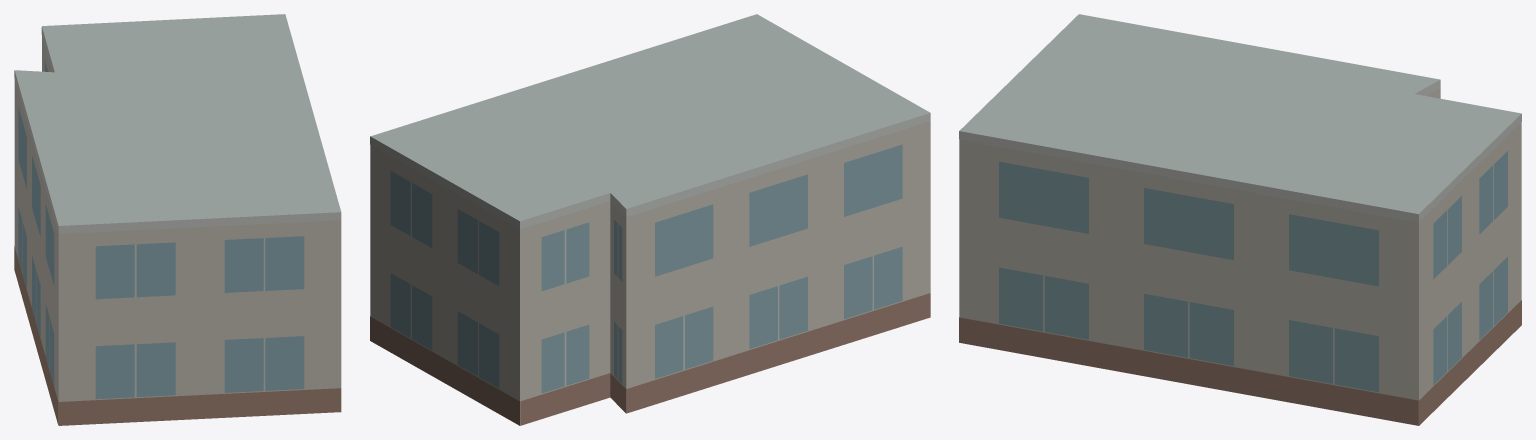
File: survey-upis-32708283.glb
3 views of the same model, side by side, from view 1: azimuth 30°, elevation 25°; view 2: azimuth 150°, elevation 25°; view 3: azimuth 270°, elevation 25° (orthographic). The views are drawn at different scales.
Visible parts, largest first — view 1: survey-upis-32708283.tmp; view 2: survey-upis-32708283.tmp; view 3: survey-upis-32708283.tmp.
Part boxes in pixels (bbox=[...]): survey-upis-32708283.tmp: bbox=[14, 14, 341, 425]; survey-upis-32708283.tmp: bbox=[370, 14, 930, 425]; survey-upis-32708283.tmp: bbox=[959, 14, 1521, 425].
Size of the model in its own units: 12.38 by 6.1 by 14.7.
